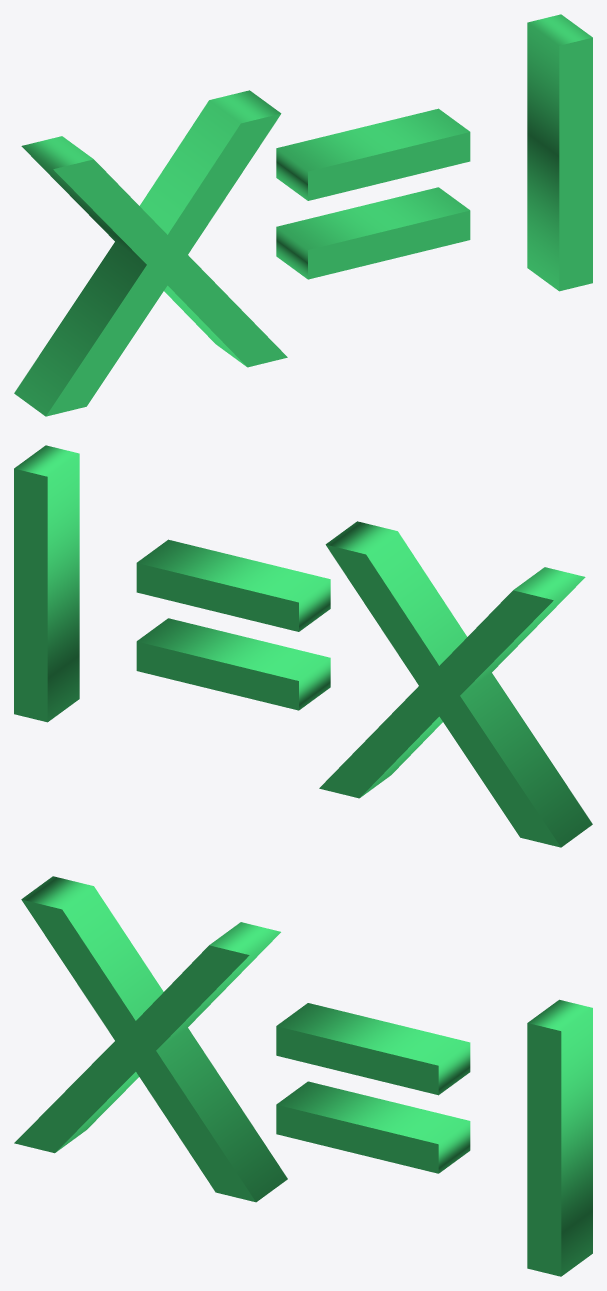
The picture shows the model from 3 angles, top to bottom: view 1: azimuth 30°, elevation 25°; view 2: azimuth 150°, elevation 25°; view 3: azimuth 330°, elevation 25°; orthographic projection.
Visible parts, largest first — view 1: 1; view 2: 1; view 3: 1.
Boxes of the visible parts, left/top/right/bottom form: 1: left=14, top=14, right=592, bottom=416; 1: left=14, top=445, right=592, bottom=847; 1: left=14, top=876, right=592, bottom=1276.
Size of the model in its own units: 1.59 by 0.682 by 0.16.
